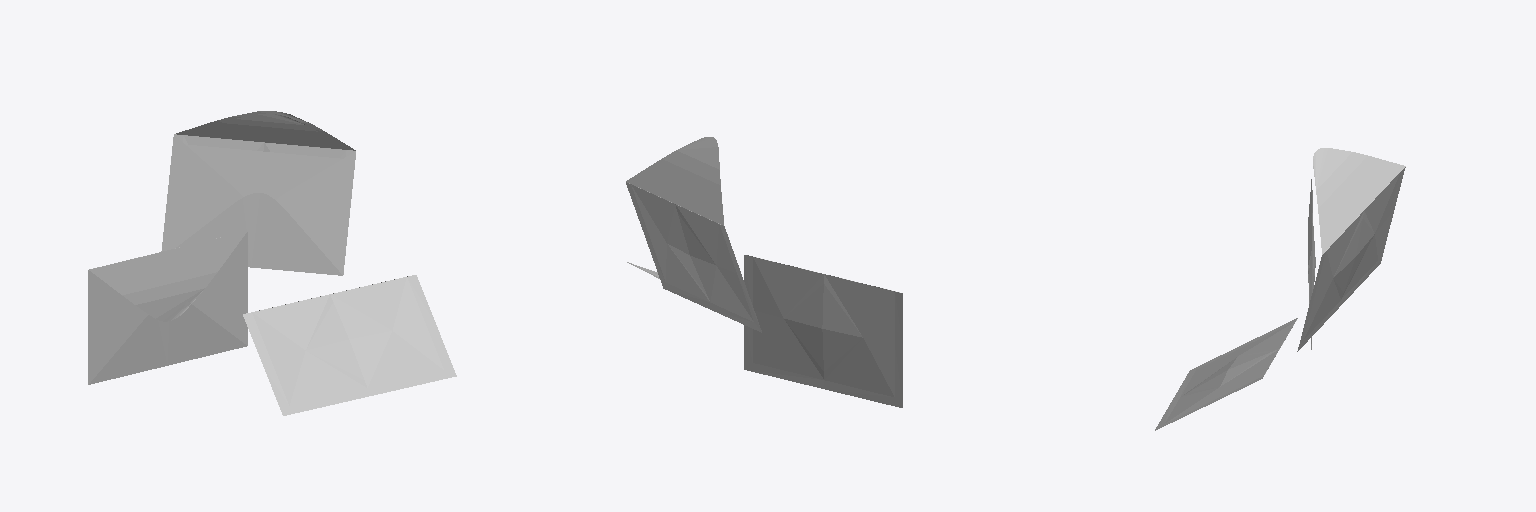
File: _nvelope.obj
3 views of the same model, side by side, from view 1: azimuth 30°, elevation 25°; view 2: azimuth 150°, elevation 25°; view 3: azimuth 270°, elevation 25° (orthographic).
Parts seen in each view (by area): view 1: Envelope_Group_2 Envelope1 Bottom5 Bottom1, Envelope_Group_1 Envelope2 Bottom2 Bottom, Envelope_Group Envelope Top3 Top4, Envelope_Group Envelope Bottom3 Bottom4, Envelope_Group_1 Envelope2 Right Right1, Envelope_Group_1 Envelope2 Left5 Left4, Envelope_Group_1 Null2 Letter, Envelope_Group Envelope Left Left3, Envelope_Group Envelope Right2 Right4, Envelope_Group_1 Envelope2 Top2 White2, Envelope_Group_1 Envelope2 Top2 Top5; view 2: Envelope_Group Envelope Bottom3 Bottom4, Envelope_Group_1 Envelope2 Bottom2 Bottom, Envelope_Group_1 Envelope2 Top2 Top5; view 3: Envelope_Group_1 Envelope2 Bottom2 Bottom, Envelope_Group_1 Envelope2 Top2 Top5, Envelope_Group_2 Envelope1 Bottom5 Bottom1.
Part boxes in pixels (bbox=[...]): Envelope_Group_2 Envelope1 Bottom5 Bottom1: bbox=[243, 275, 456, 415]; Envelope_Group_1 Envelope2 Bottom2 Bottom: bbox=[170, 134, 354, 275]; Envelope_Group Envelope Top3 Top4: bbox=[89, 231, 247, 321]; Envelope_Group Envelope Bottom3 Bottom4: bbox=[89, 237, 246, 384]; Envelope_Group_1 Envelope2 Right Right1: bbox=[276, 151, 355, 274]; Envelope_Group_1 Envelope2 Left5 Left4: bbox=[161, 135, 242, 251]; Envelope_Group_1 Null2 Letter: bbox=[185, 144, 341, 199]; Envelope_Group Envelope Left Left3: bbox=[88, 270, 148, 384]; Envelope_Group Envelope Right2 Right4: bbox=[192, 232, 247, 345]; Envelope_Group_1 Envelope2 Top2 White2: bbox=[185, 114, 345, 149]; Envelope_Group_1 Envelope2 Top2 Top5: bbox=[176, 111, 355, 150]; Envelope_Group Envelope Bottom3 Bottom4: bbox=[744, 255, 902, 407]; Envelope_Group_1 Envelope2 Bottom2 Bottom: bbox=[626, 182, 761, 332]; Envelope_Group_1 Envelope2 Top2 Top5: bbox=[626, 137, 723, 225]; Envelope_Group_1 Envelope2 Bottom2 Bottom: bbox=[1297, 166, 1405, 351]; Envelope_Group_1 Envelope2 Top2 Top5: bbox=[1313, 148, 1404, 254]; Envelope_Group_2 Envelope1 Bottom5 Bottom1: bbox=[1155, 318, 1297, 430].
Bounding box in the file's own units: 866 × 672 × 623.